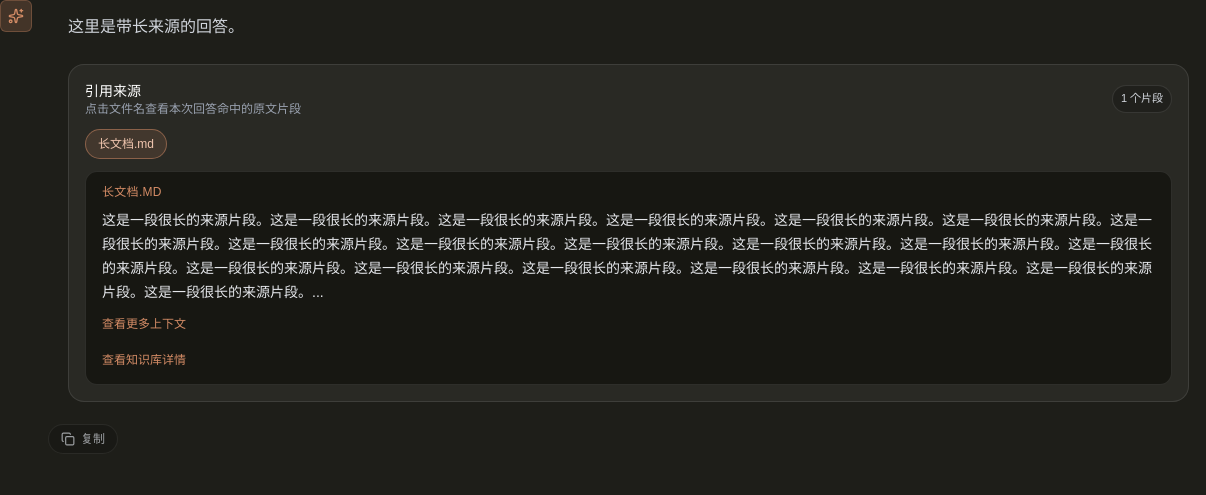
Scenario: MessageBubble › lets users expand long source snippets to view more context
Click the button "查看更多上下文": x=144, y=324 102,316 -> 186,332
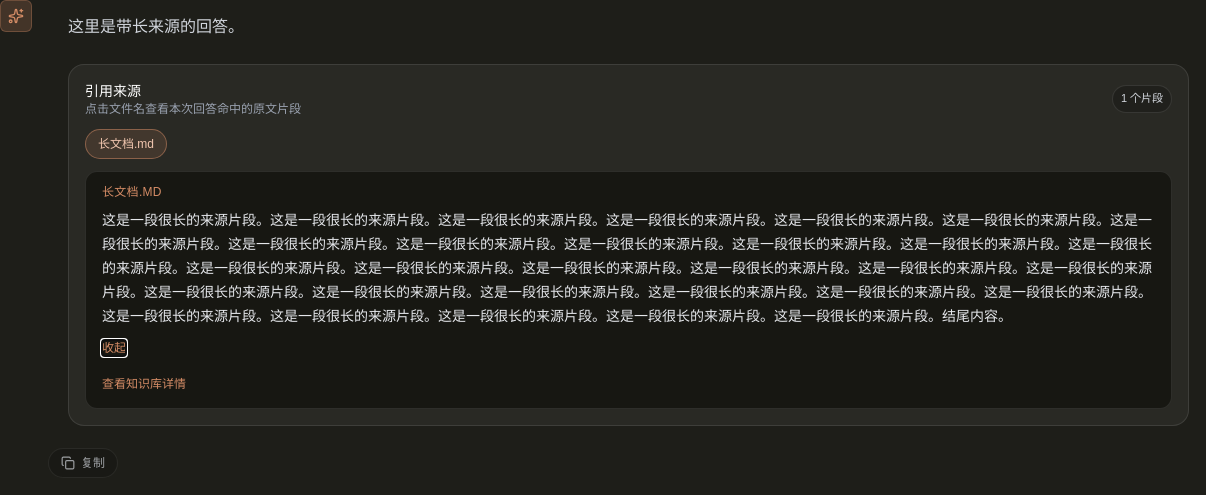
Expected: the button "收起" is shown, 102,340 -> 126,356
